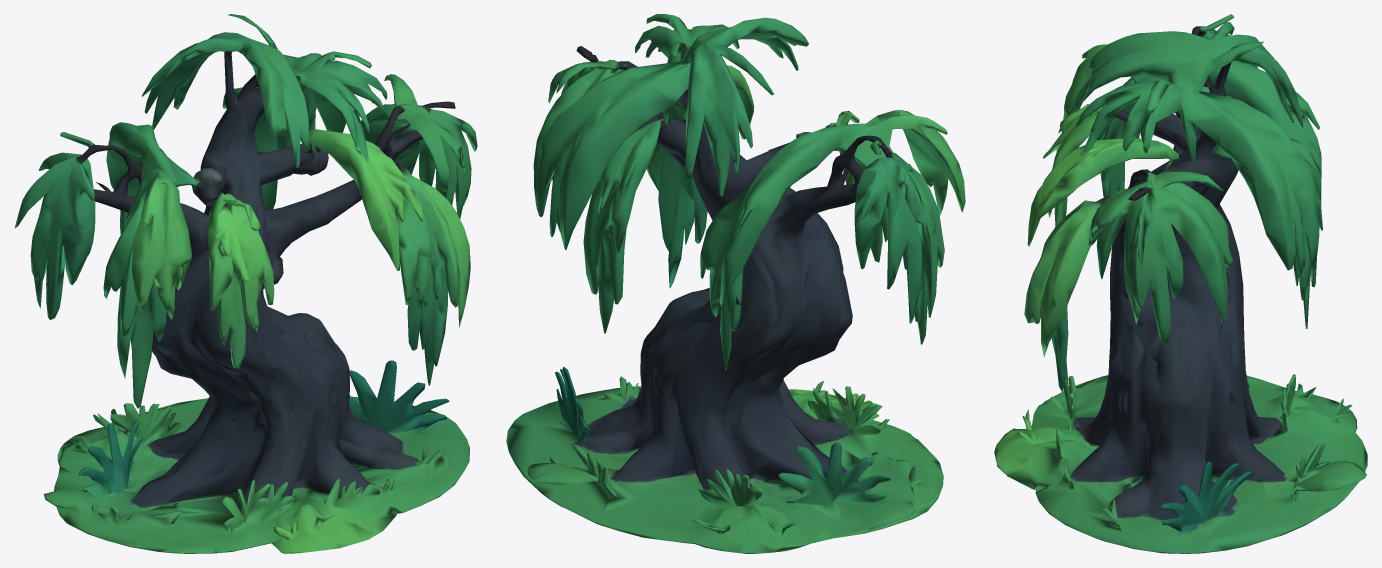
The model's file is tripo-salgueiro153.glb.
3 views of the same model, side by side, from view 1: azimuth 30°, elevation 25°; view 2: azimuth 150°, elevation 25°; view 3: azimuth 270°, elevation 25° (orthographic). The views are drawn at different scales.
Visible parts, largest first — view 1: tripo_node_7a37d4e1-44f0-40f8-9c16-d926c437a040; view 2: tripo_node_7a37d4e1-44f0-40f8-9c16-d926c437a040; view 3: tripo_node_7a37d4e1-44f0-40f8-9c16-d926c437a040.
Boxes of the visible parts, left/top/right/bottom form: tripo_node_7a37d4e1-44f0-40f8-9c16-d926c437a040: left=14, top=14, right=477, bottom=553; tripo_node_7a37d4e1-44f0-40f8-9c16-d926c437a040: left=506, top=14, right=965, bottom=553; tripo_node_7a37d4e1-44f0-40f8-9c16-d926c437a040: left=994, top=14, right=1367, bottom=553.
Size of the model in its own units: 0.9783 by 0.9645 by 0.7665.
Materials: 1 (1 with a texture image).
